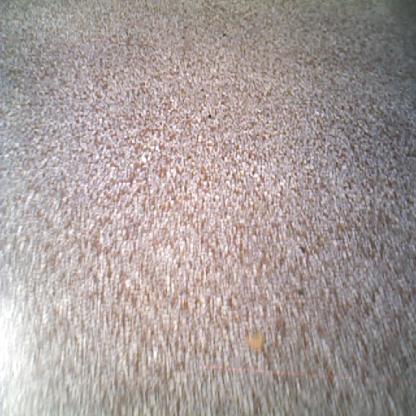dirty: (244, 331, 266, 354)
